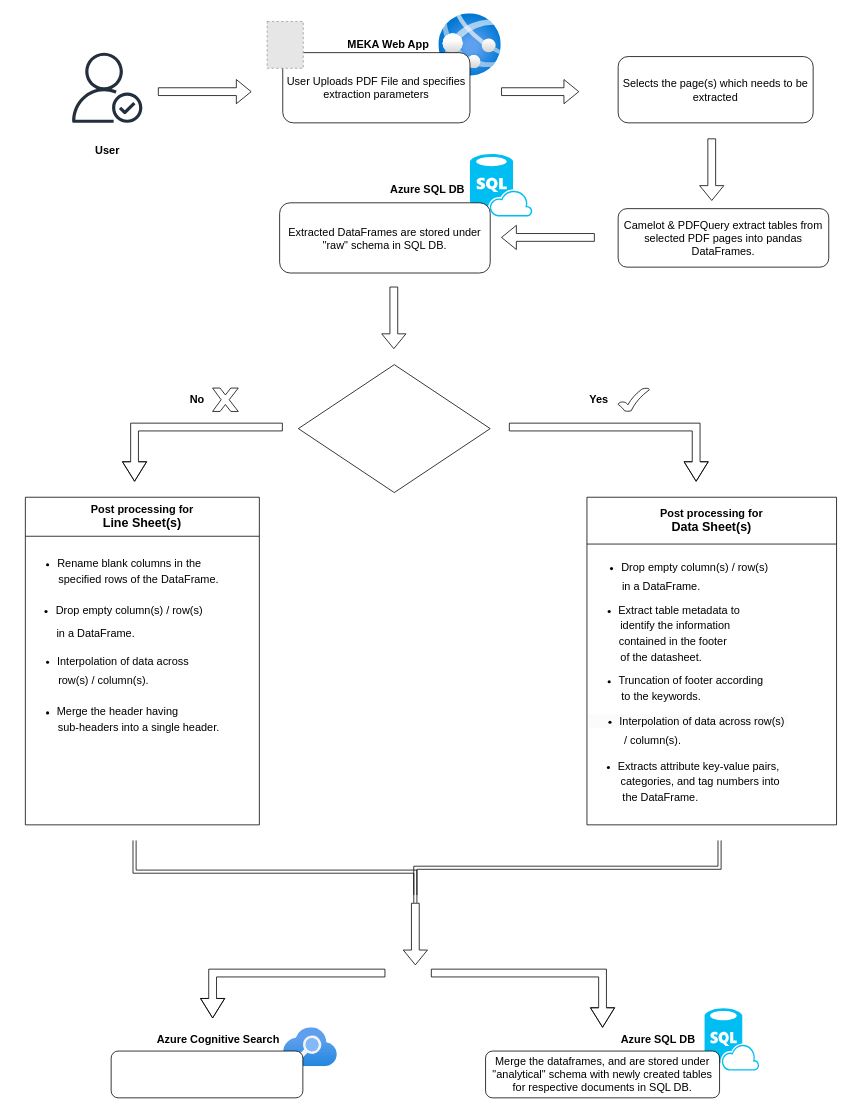
This 850x1112 diagram has some shape labels left out. Grey dashed boxes stand in for pictures. Each missing label, with the centre of its shape:
Checks for the document type. Is it datasheet?: (x=394, y=428)
Chunk documents, convert to embeddings and store in vector database.: (x=206, y=1074)
